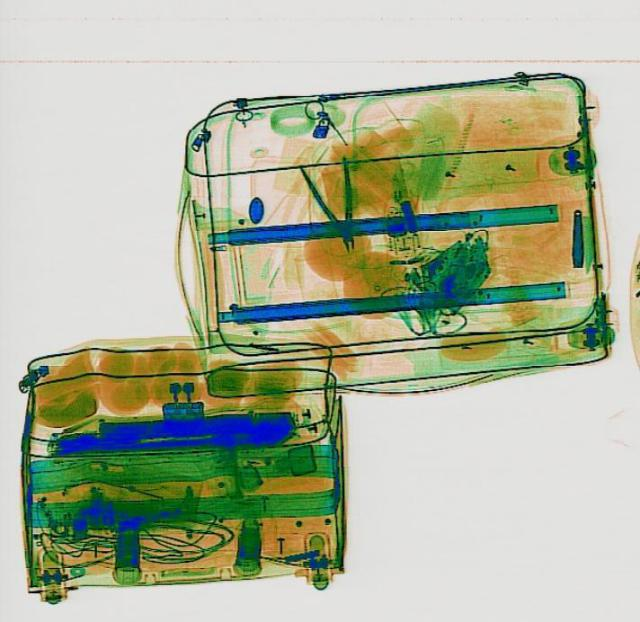Pliers: (296, 153, 376, 256)
